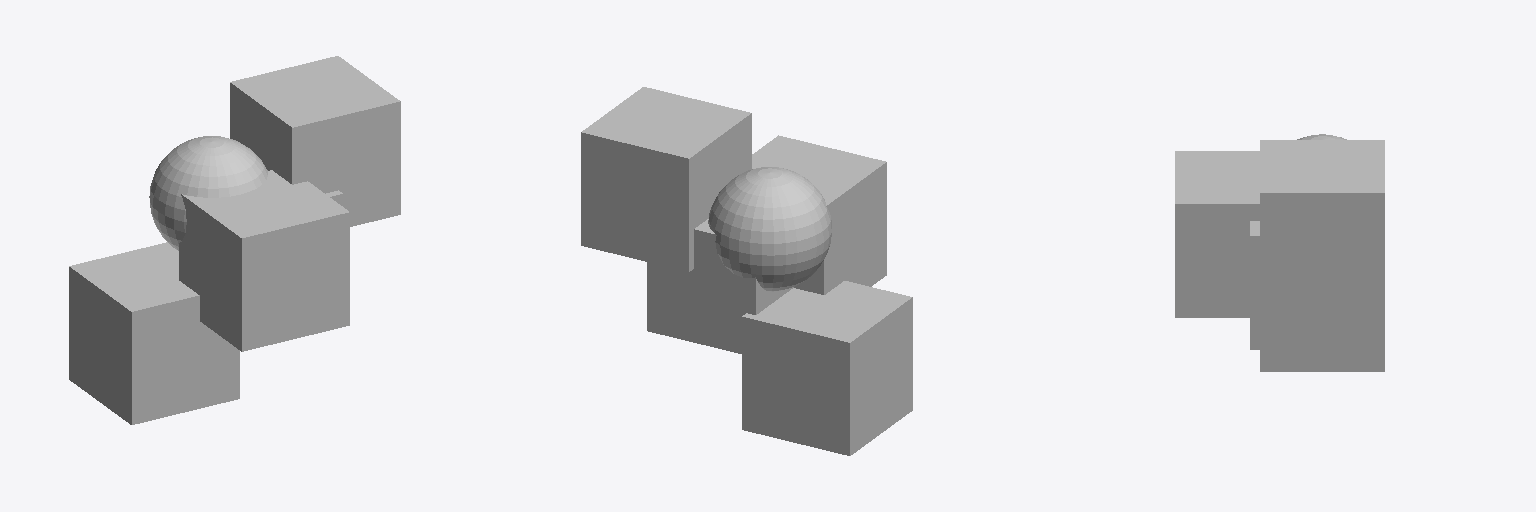
File: hueta.obj
3 renders of one model, left to right at view 1: azimuth 30°, elevation 25°; view 2: azimuth 150°, elevation 25°; view 3: azimuth 270°, elevation 25°, orthographic.
Parts seen in each view (by area): view 1: Cube.003, Cube.002, Cube.001, Sphere; view 2: Cube.002, Cube.001, Sphere, Cube.003, Cube; view 3: Cube.001, Cube.003, Cube, Cube.002.
Part boxes in pixels (x1,y1,x2,y2): Cube.003: (179,170,349,351); Cube.002: (69,242,239,424); Cube.001: (230,56,400,226); Sphere: (149,136,267,250); Cube.002: (742,281,912,455); Cube.001: (581,87,751,271); Sphere: (708,167,831,291); Cube.003: (752,135,886,294); Cube: (647,219,793,353); Cube.001: (1260,140,1384,305); Cube.003: (1175,151,1259,317); Cube: (1250,221,1375,349); Cube.002: (1260,306,1384,371).
Size of the model in its own units: 4.97 by 4.55 by 3.35.